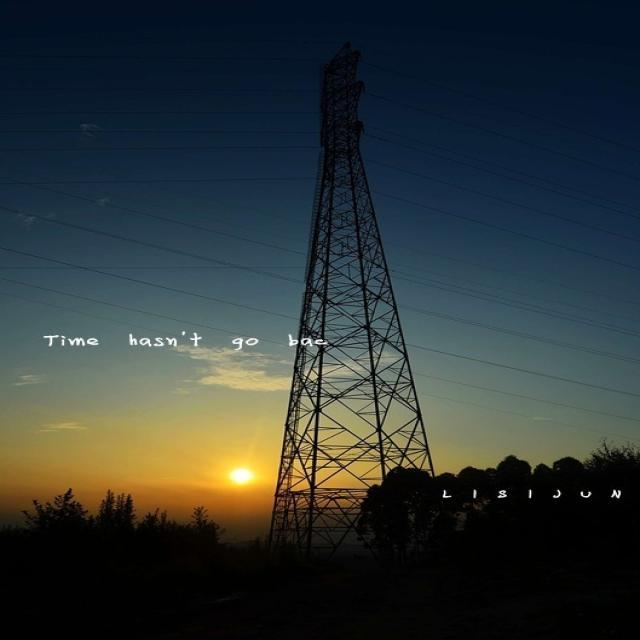non-critical vegetation: (272, 42, 453, 532)
